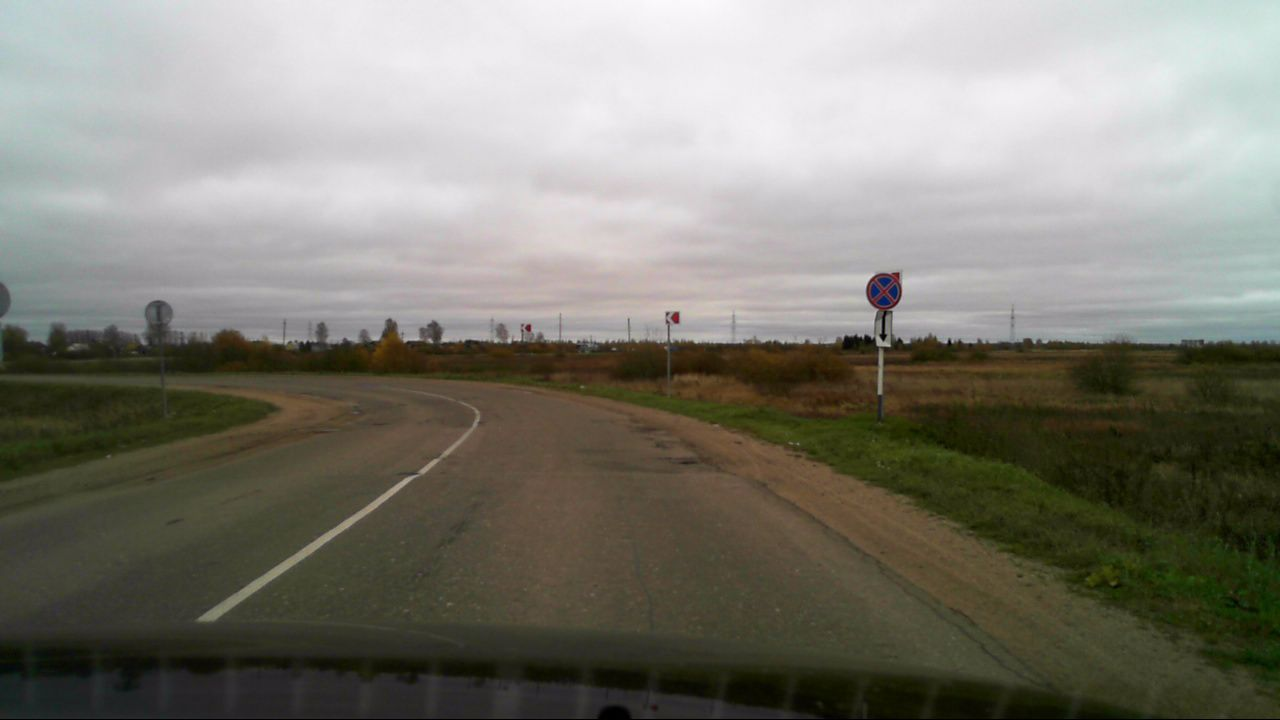No Parking: (866, 274, 901, 310)
